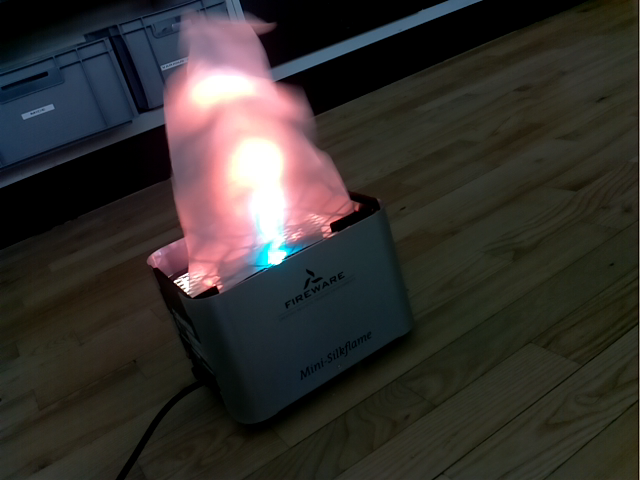fire: (163, 12, 356, 298)
